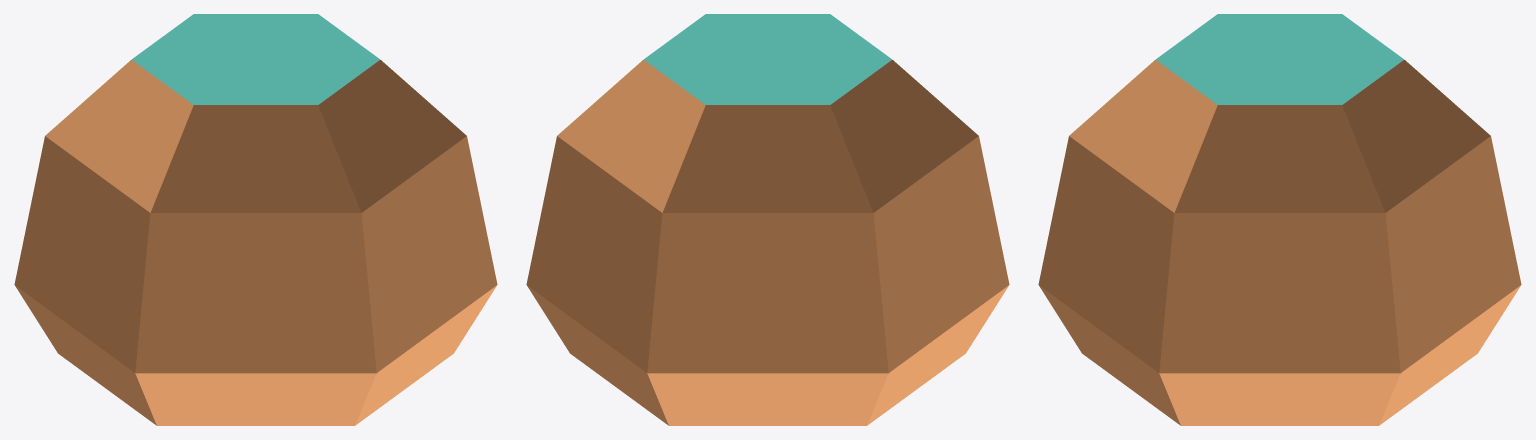
Rendered from rock_small9.obj.
3 views of the same model, side by side, from view 1: azimuth 30°, elevation 25°; view 2: azimuth 150°, elevation 25°; view 3: azimuth 270°, elevation 25° (orthographic).
Visible parts, largest first — view 1: rock_small9; view 2: rock_small9; view 3: rock_small9.
Boxes of the visible parts, left/top/right/bottom form: rock_small9: left=14, top=14, right=497, bottom=425; rock_small9: left=526, top=14, right=1009, bottom=425; rock_small9: left=1038, top=14, right=1521, bottom=425.
Bounding box in the file's own units: 3.58 × 2.78 × 4.14.
